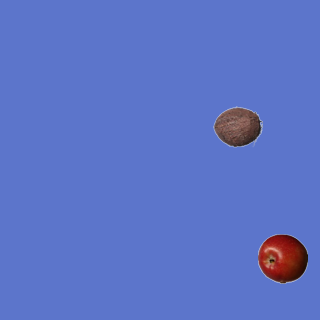Apple Braeburn: (257, 233, 307, 283)
Cocos: (212, 101, 262, 151)
